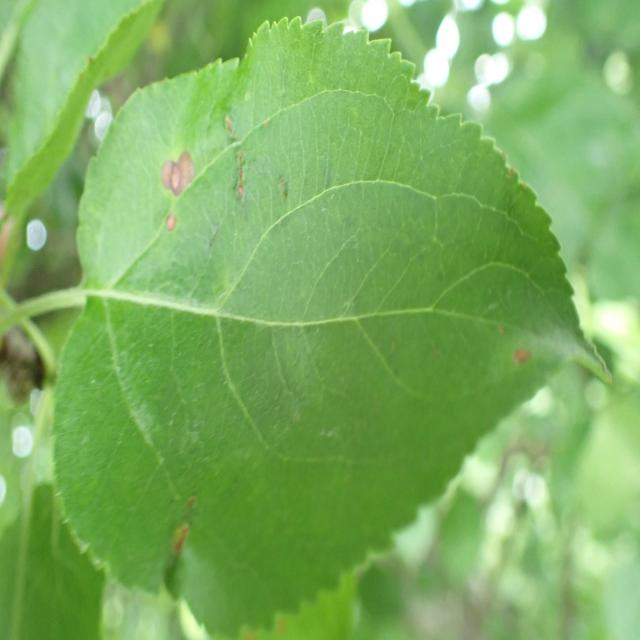Black Rot: (139, 127, 197, 236), (504, 312, 545, 394)
